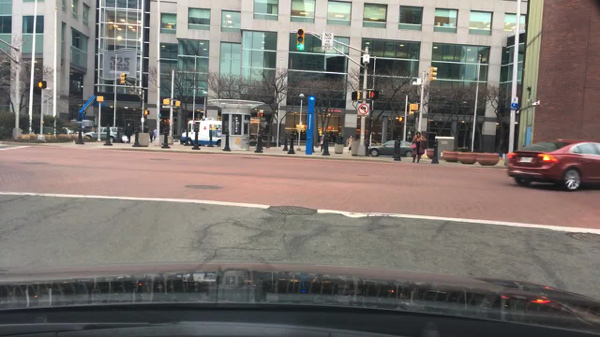car: (504, 137, 599, 191), (179, 118, 229, 149), (367, 139, 416, 159), (83, 125, 125, 143)
person: (411, 131, 428, 165), (346, 135, 357, 153), (125, 123, 134, 145), (497, 140, 506, 160), (153, 126, 161, 143), (318, 134, 325, 152), (147, 128, 154, 143)
traffic light: (296, 29, 305, 52), (367, 89, 378, 101), (430, 66, 438, 80), (120, 74, 128, 87), (407, 103, 419, 111), (161, 98, 171, 107), (352, 90, 360, 101), (37, 81, 47, 88), (396, 116, 404, 123), (175, 100, 182, 108), (143, 110, 151, 117), (258, 113, 265, 119), (96, 96, 104, 101)
traffic sign: (322, 33, 333, 50), (358, 101, 371, 115), (509, 96, 520, 111)
